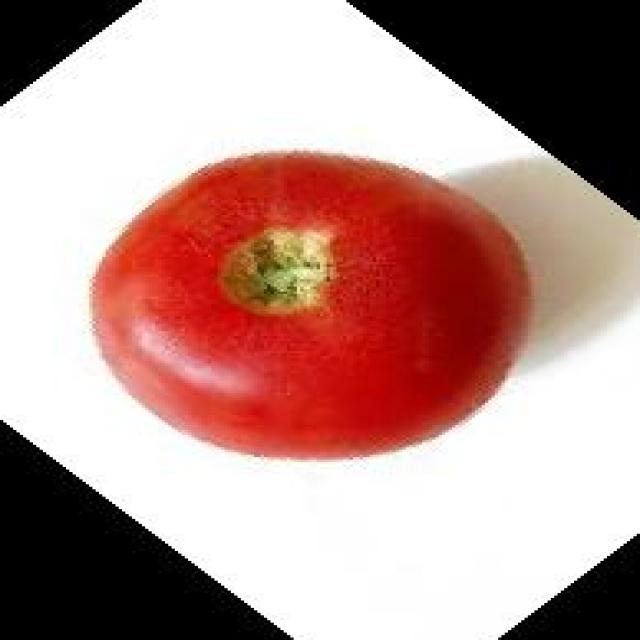Tomato: (75, 141, 544, 466)
